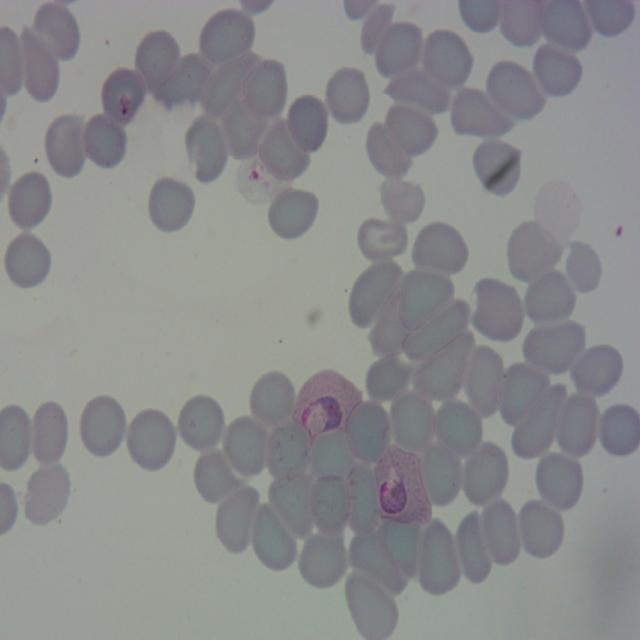leukocyte: (412, 330, 476, 402), (509, 383, 568, 459), (402, 298, 471, 361), (348, 530, 413, 596), (202, 48, 260, 120), (530, 171, 584, 246), (485, 56, 545, 122), (348, 261, 404, 328), (471, 276, 526, 344), (220, 89, 273, 158), (414, 523, 463, 597), (504, 221, 558, 288), (522, 321, 588, 374), (258, 117, 310, 184), (250, 501, 298, 573), (297, 527, 350, 592), (125, 407, 177, 473), (200, 7, 255, 69), (420, 28, 472, 93), (346, 575, 398, 640), (397, 267, 452, 328), (78, 392, 128, 459), (412, 219, 468, 278), (136, 27, 183, 97), (42, 112, 89, 180), (214, 482, 259, 553), (535, 448, 584, 513), (420, 440, 466, 509), (461, 441, 509, 507), (176, 392, 227, 454), (184, 114, 229, 184), (516, 498, 566, 561), (20, 27, 62, 102), (554, 391, 600, 459), (222, 414, 270, 479), (344, 399, 392, 464), (450, 88, 516, 135), (501, 360, 551, 422), (382, 68, 449, 114), (145, 175, 196, 235), (524, 268, 575, 328), (454, 509, 495, 583), (268, 476, 316, 539), (366, 286, 408, 358), (374, 20, 425, 79), (25, 460, 72, 524), (31, 0, 81, 60), (478, 499, 522, 567), (266, 418, 314, 480), (158, 52, 211, 108), (386, 101, 438, 158), (6, 169, 53, 232), (324, 64, 371, 127), (431, 399, 482, 457), (571, 342, 624, 397), (192, 444, 239, 506), (242, 60, 289, 122), (266, 186, 318, 242), (532, 40, 582, 98), (3, 232, 52, 291), (473, 137, 522, 196), (365, 120, 413, 180), (390, 391, 437, 452), (355, 212, 408, 265), (309, 470, 352, 535), (28, 399, 69, 467), (285, 94, 330, 155), (81, 111, 127, 170), (466, 348, 506, 415), (306, 430, 357, 482), (378, 517, 420, 579), (251, 373, 295, 427), (365, 354, 409, 404), (378, 179, 426, 224), (347, 474, 380, 534), (566, 239, 602, 293), (359, 7, 393, 55)
schizont: (368, 444, 432, 531), (294, 370, 362, 445)
